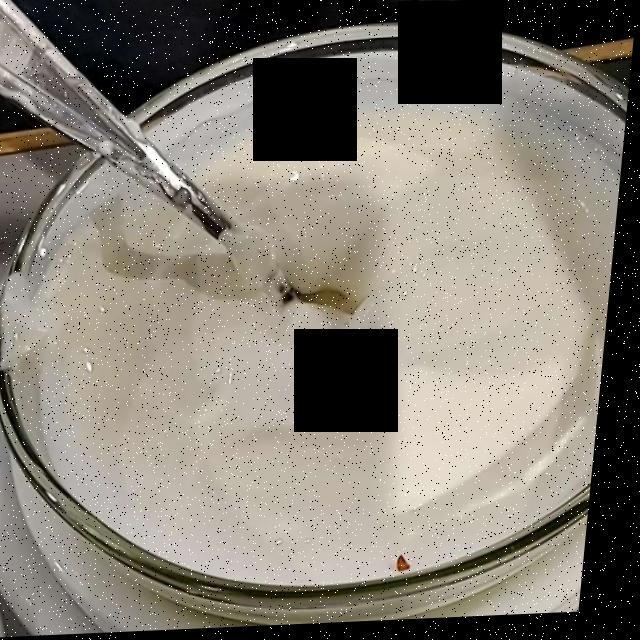sour-cream: (26, 102, 584, 576)
